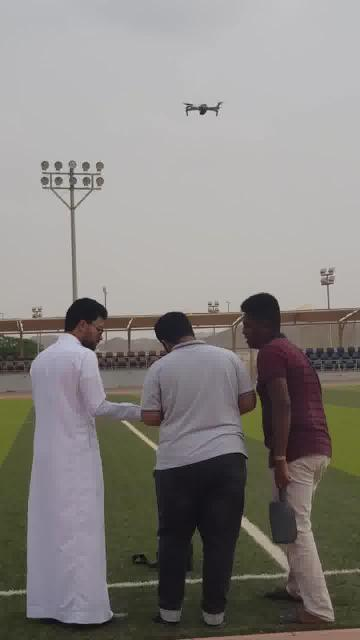drone: (173, 90, 229, 118)
